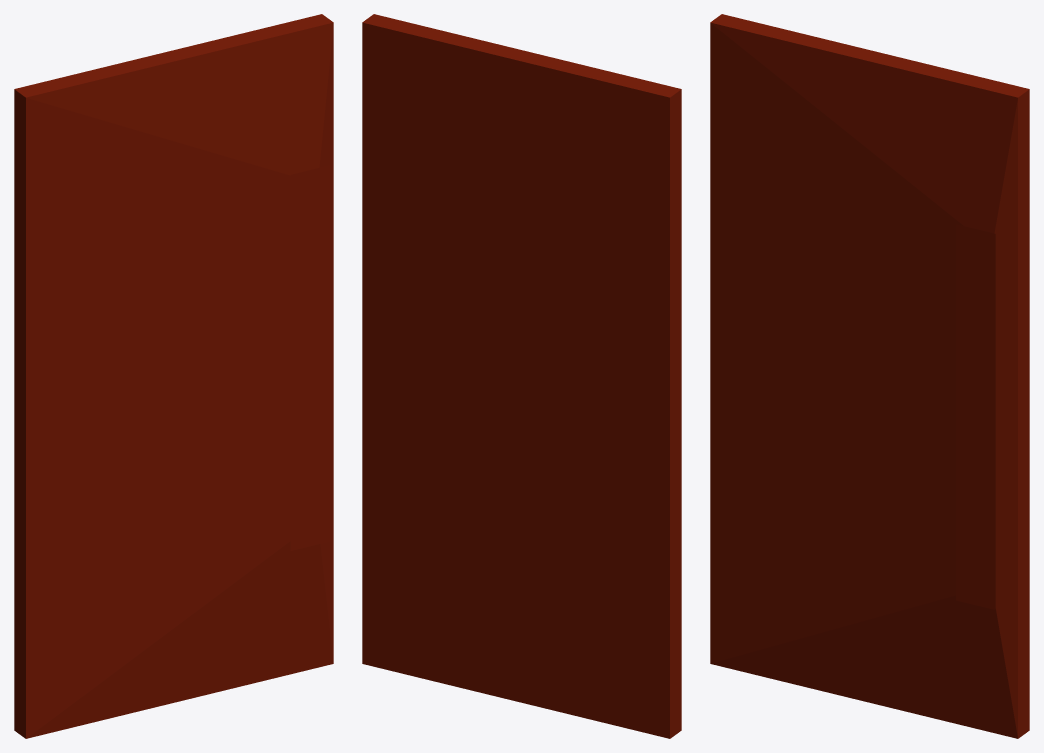
Rendered from ClosetDooLeft.FBX.
The picture shows the model from 3 angles, left to right: view 1: azimuth 30°, elevation 25°; view 2: azimuth 150°, elevation 25°; view 3: azimuth 330°, elevation 25°; orthographic projection.
Parts seen in each view (by area): view 1: ClosetDooLeft; view 2: ClosetDooLeft; view 3: ClosetDooLeft.
Boxes of the visible parts, x1,y1,x2,y2 form: ClosetDooLeft: (14,14,333,738); ClosetDooLeft: (362,14,681,738); ClosetDooLeft: (710,14,1029,738).
Size of the model in its own units: 38.79 by 4.6 by 77.21.
